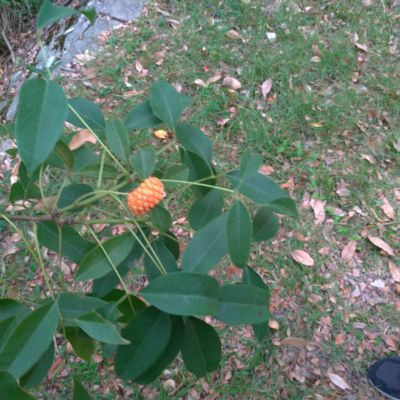eggs: (123, 173, 169, 220)
